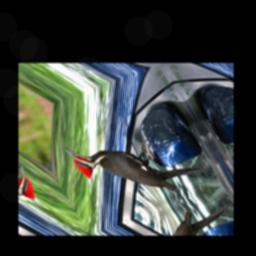Woodpecker: (63, 106, 218, 219)
